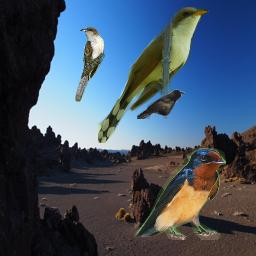Crow: (137, 89, 185, 119)
Cuckoo: (98, 7, 209, 143), (75, 27, 105, 102)
Swallow: (134, 148, 226, 240)
